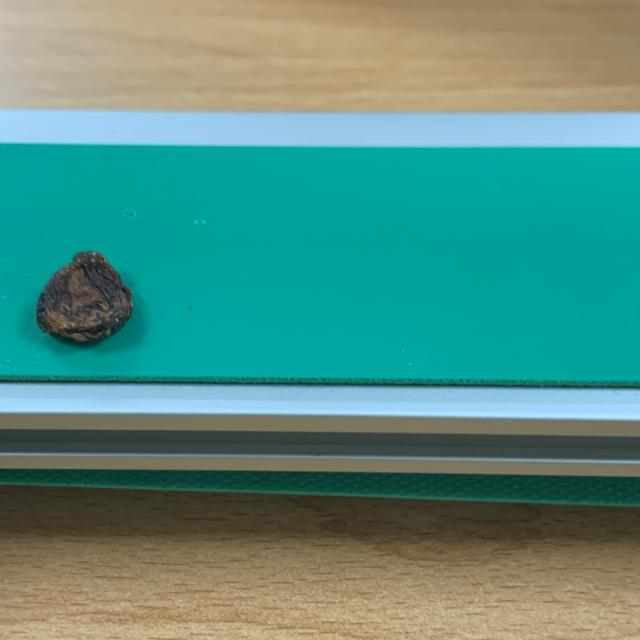Flat_cocoabeans: (0, 227, 217, 373)
